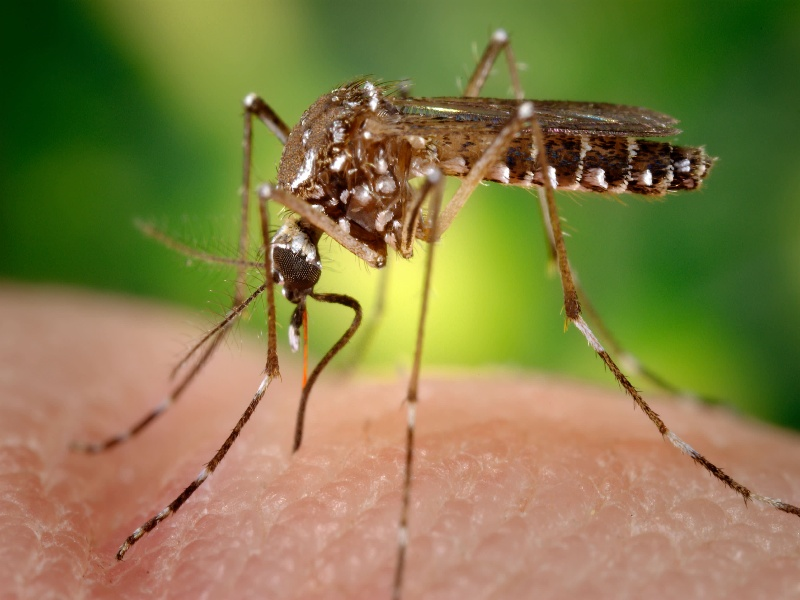dengue_mosquito: (246, 74, 715, 421)
